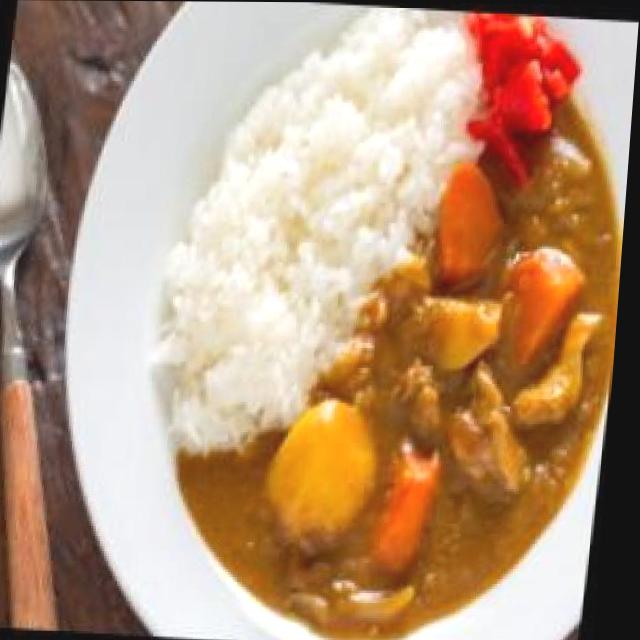curry: (174, 96, 625, 584)
rice: (191, 56, 465, 326)
